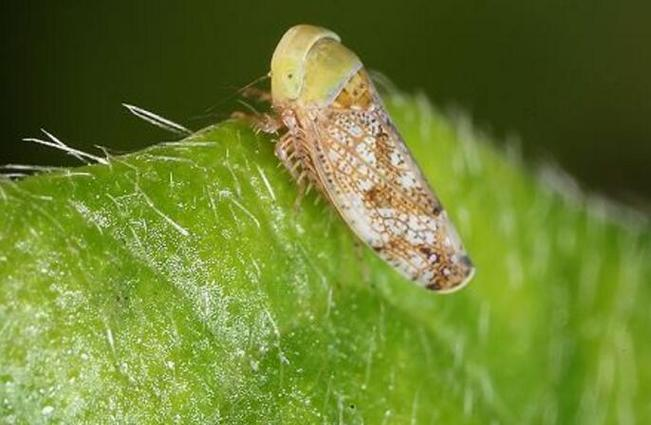Cicadellidae: (258, 24, 475, 293)
